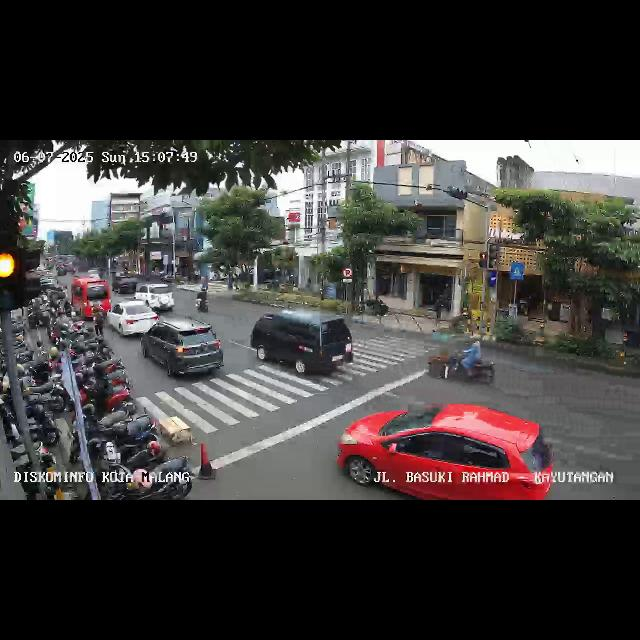car: (339, 402, 555, 500), (251, 306, 357, 384), (142, 319, 226, 381), (107, 300, 159, 340), (72, 277, 110, 321), (134, 282, 176, 312), (114, 274, 138, 296)
motorcycle: (426, 334, 502, 388), (195, 284, 211, 312)
